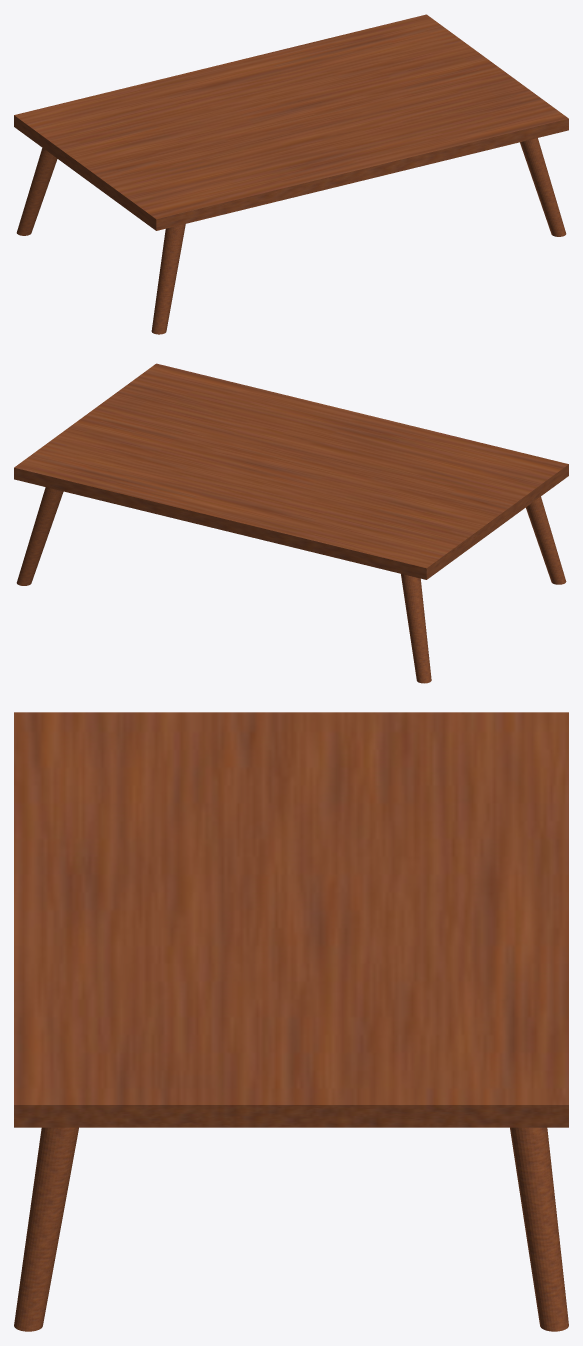
File: Table.fbx
The picture shows the model from 3 angles, top to bottom: view 1: azimuth 30°, elevation 25°; view 2: azimuth 150°, elevation 25°; view 3: azimuth 270°, elevation 25°; orthographic projection. The views are drawn at different scales.
Visible parts, largest first — view 1: Cube, Cylinder.170, Cylinder, Cylinder.169; view 2: Cube, Cylinder.169, Cylinder.168, Cylinder.170; view 3: Cube, Cylinder.168, Cylinder.
Part boxes in pixels (left/top/right/bottom): Cube: left=14, top=14, right=568, bottom=230; Cylinder.170: left=151, top=224, right=185, bottom=334; Cylinder: left=520, top=138, right=566, bottom=236; Cylinder.169: left=16, top=148, right=57, bottom=235; Cube: left=14, top=363, right=568, bottom=579; Cylinder.169: left=401, top=574, right=431, bottom=683; Cylinder.168: left=16, top=487, right=63, bottom=585; Cylinder.170: left=526, top=496, right=566, bottom=584; Cube: left=14, top=712, right=568, bottom=1127; Cylinder.168: left=510, top=1127, right=568, bottom=1331; Cylinder: left=14, top=1127, right=78, bottom=1331.
Bounding box in the file's own units: 300 × 80.82 × 179.
